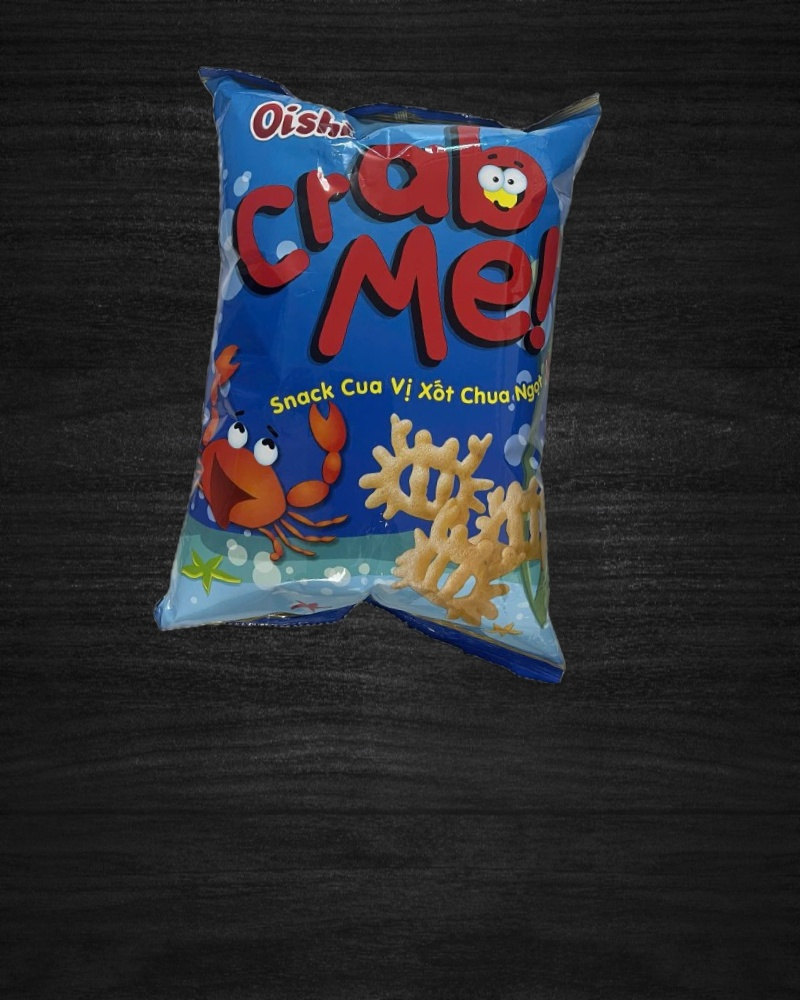Snack chay: (148, 58, 616, 687)
